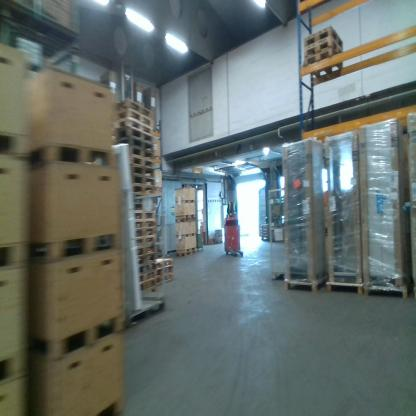pallet: (306, 50, 344, 84), (302, 38, 343, 59), (111, 119, 154, 137), (111, 110, 152, 127), (114, 100, 152, 118), (303, 33, 345, 48), (114, 138, 153, 153), (114, 128, 153, 142), (127, 153, 154, 169), (128, 144, 154, 159), (135, 279, 155, 296), (150, 276, 175, 289), (132, 193, 156, 206), (131, 165, 153, 179), (130, 173, 153, 186), (129, 180, 152, 193), (138, 261, 157, 275), (154, 256, 173, 270), (147, 185, 162, 200), (134, 244, 156, 254), (131, 204, 155, 213), (132, 228, 156, 237), (134, 212, 155, 222), (134, 254, 156, 263), (156, 266, 172, 278), (138, 272, 155, 283), (133, 221, 155, 229), (177, 250, 197, 258), (175, 216, 197, 223), (132, 240, 156, 246), (260, 237, 272, 244), (260, 222, 270, 228), (261, 228, 270, 233), (260, 231, 270, 234), (260, 234, 270, 237)
pallet_truck: (222, 214, 245, 260)
stillage: (3, 14, 84, 85), (4, 4, 85, 44), (268, 219, 283, 247), (267, 196, 282, 221)
